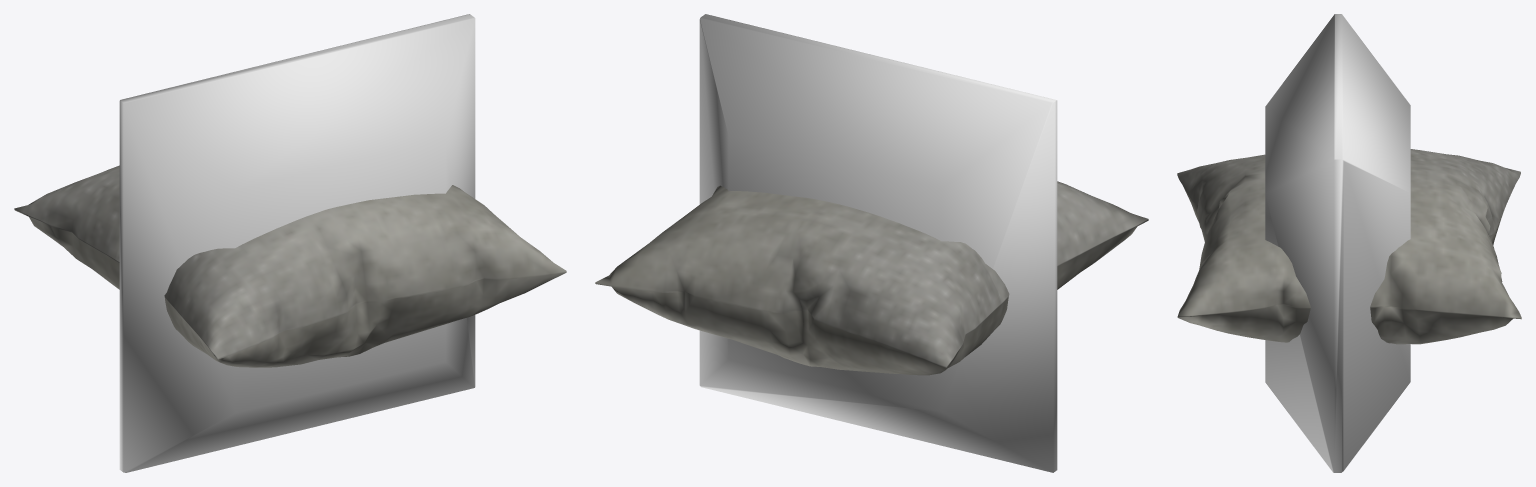
The model's file is SM_Pillow.fbx.
3 views of the same model, side by side, from view 1: azimuth 30°, elevation 25°; view 2: azimuth 150°, elevation 25°; view 3: azimuth 270°, elevation 25° (orthographic). The views are drawn at different scales.
Parts seen in each view (by area): view 1: SM_Pillow_ConvexHulls, SM_Pillow; view 2: SM_Pillow_ConvexHulls, SM_Pillow; view 3: SM_Pillow_ConvexHulls, SM_Pillow.
Part boxes in pixels (<box>): SM_Pillow_ConvexHulls: <box>119,14,475,472</box>; SM_Pillow: <box>14,165,566,367</box>; SM_Pillow_ConvexHulls: <box>699,14,1057,472</box>; SM_Pillow: <box>595,181,1148,375</box>; SM_Pillow_ConvexHulls: <box>1265,14,1410,472</box>; SM_Pillow: <box>1177,149,1521,344</box>.
Bounding box in the file's own units: 0.6184 × 0.6212 × 0.6189.
